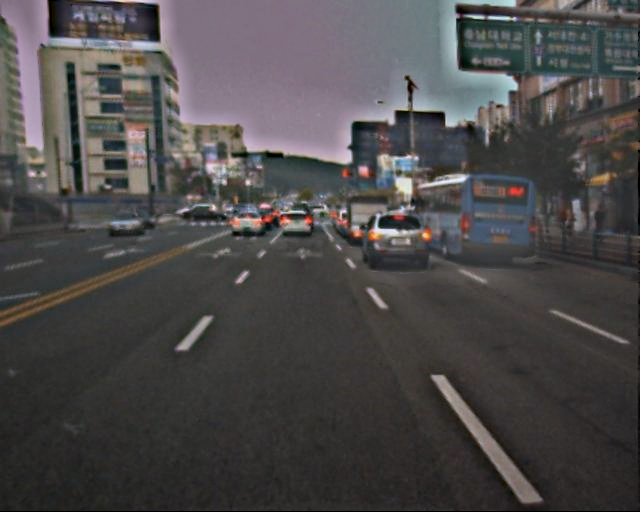person: (590, 206, 608, 250), (558, 205, 571, 231)
